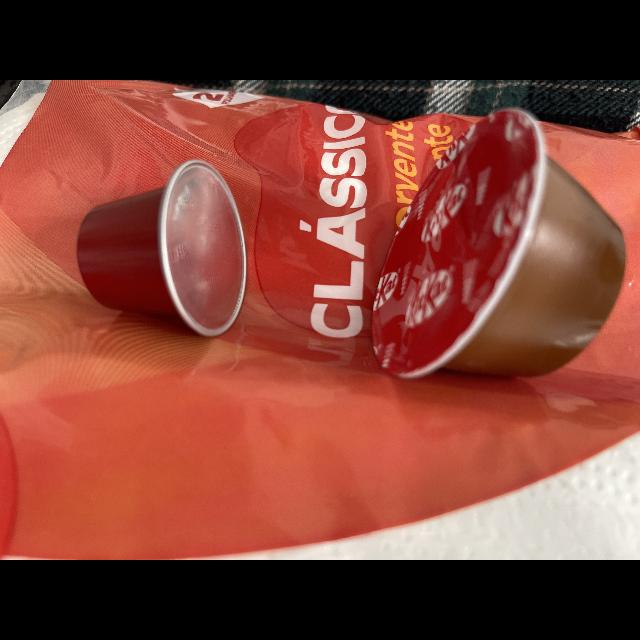intact_capsule: (356, 87, 640, 403), (56, 152, 266, 348)
